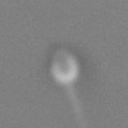normal: (64, 87, 87, 127)
